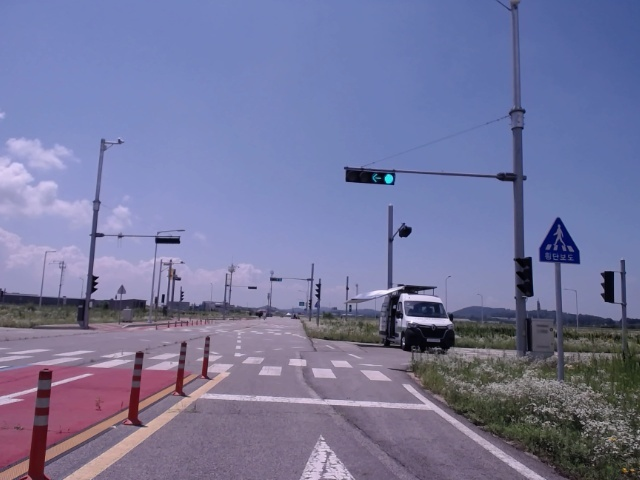all_green_4: (344, 165, 395, 187)
